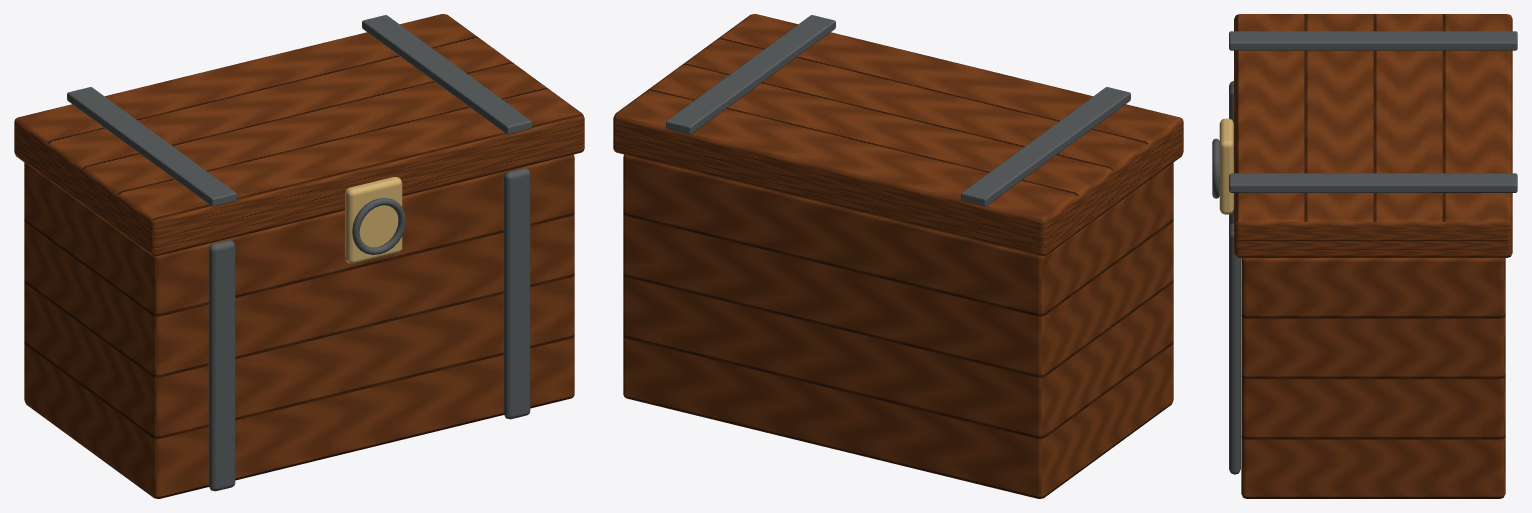
The model's file is adventurers-tavern-and-guild-hall-storage-chest-a2d9d275__24701.glb.
3 views of the same model, side by side, from view 1: azimuth 30°, elevation 25°; view 2: azimuth 150°, elevation 25°; view 3: azimuth 270°, elevation 25° (orthographic).
Parts seen in each view (by area): view 1: storage-chest, lid (×2); view 2: storage-chest, lid (×2); view 3: lid (×2), storage-chest.
Boxes of the visible parts, <box> form: storage-chest: <box>24,154,574,498</box>; lid (×2): <box>14,14,584,256</box>; storage-chest: <box>623,154,1173,498</box>; lid (×2): <box>613,14,1183,256</box>; lid (×2): <box>1229,14,1517,257</box>; storage-chest: <box>1212,81,1505,498</box>.
Size of the model in its own units: 1.03 by 0.67 by 0.635.
Materials: 3 (1 with a texture image).
